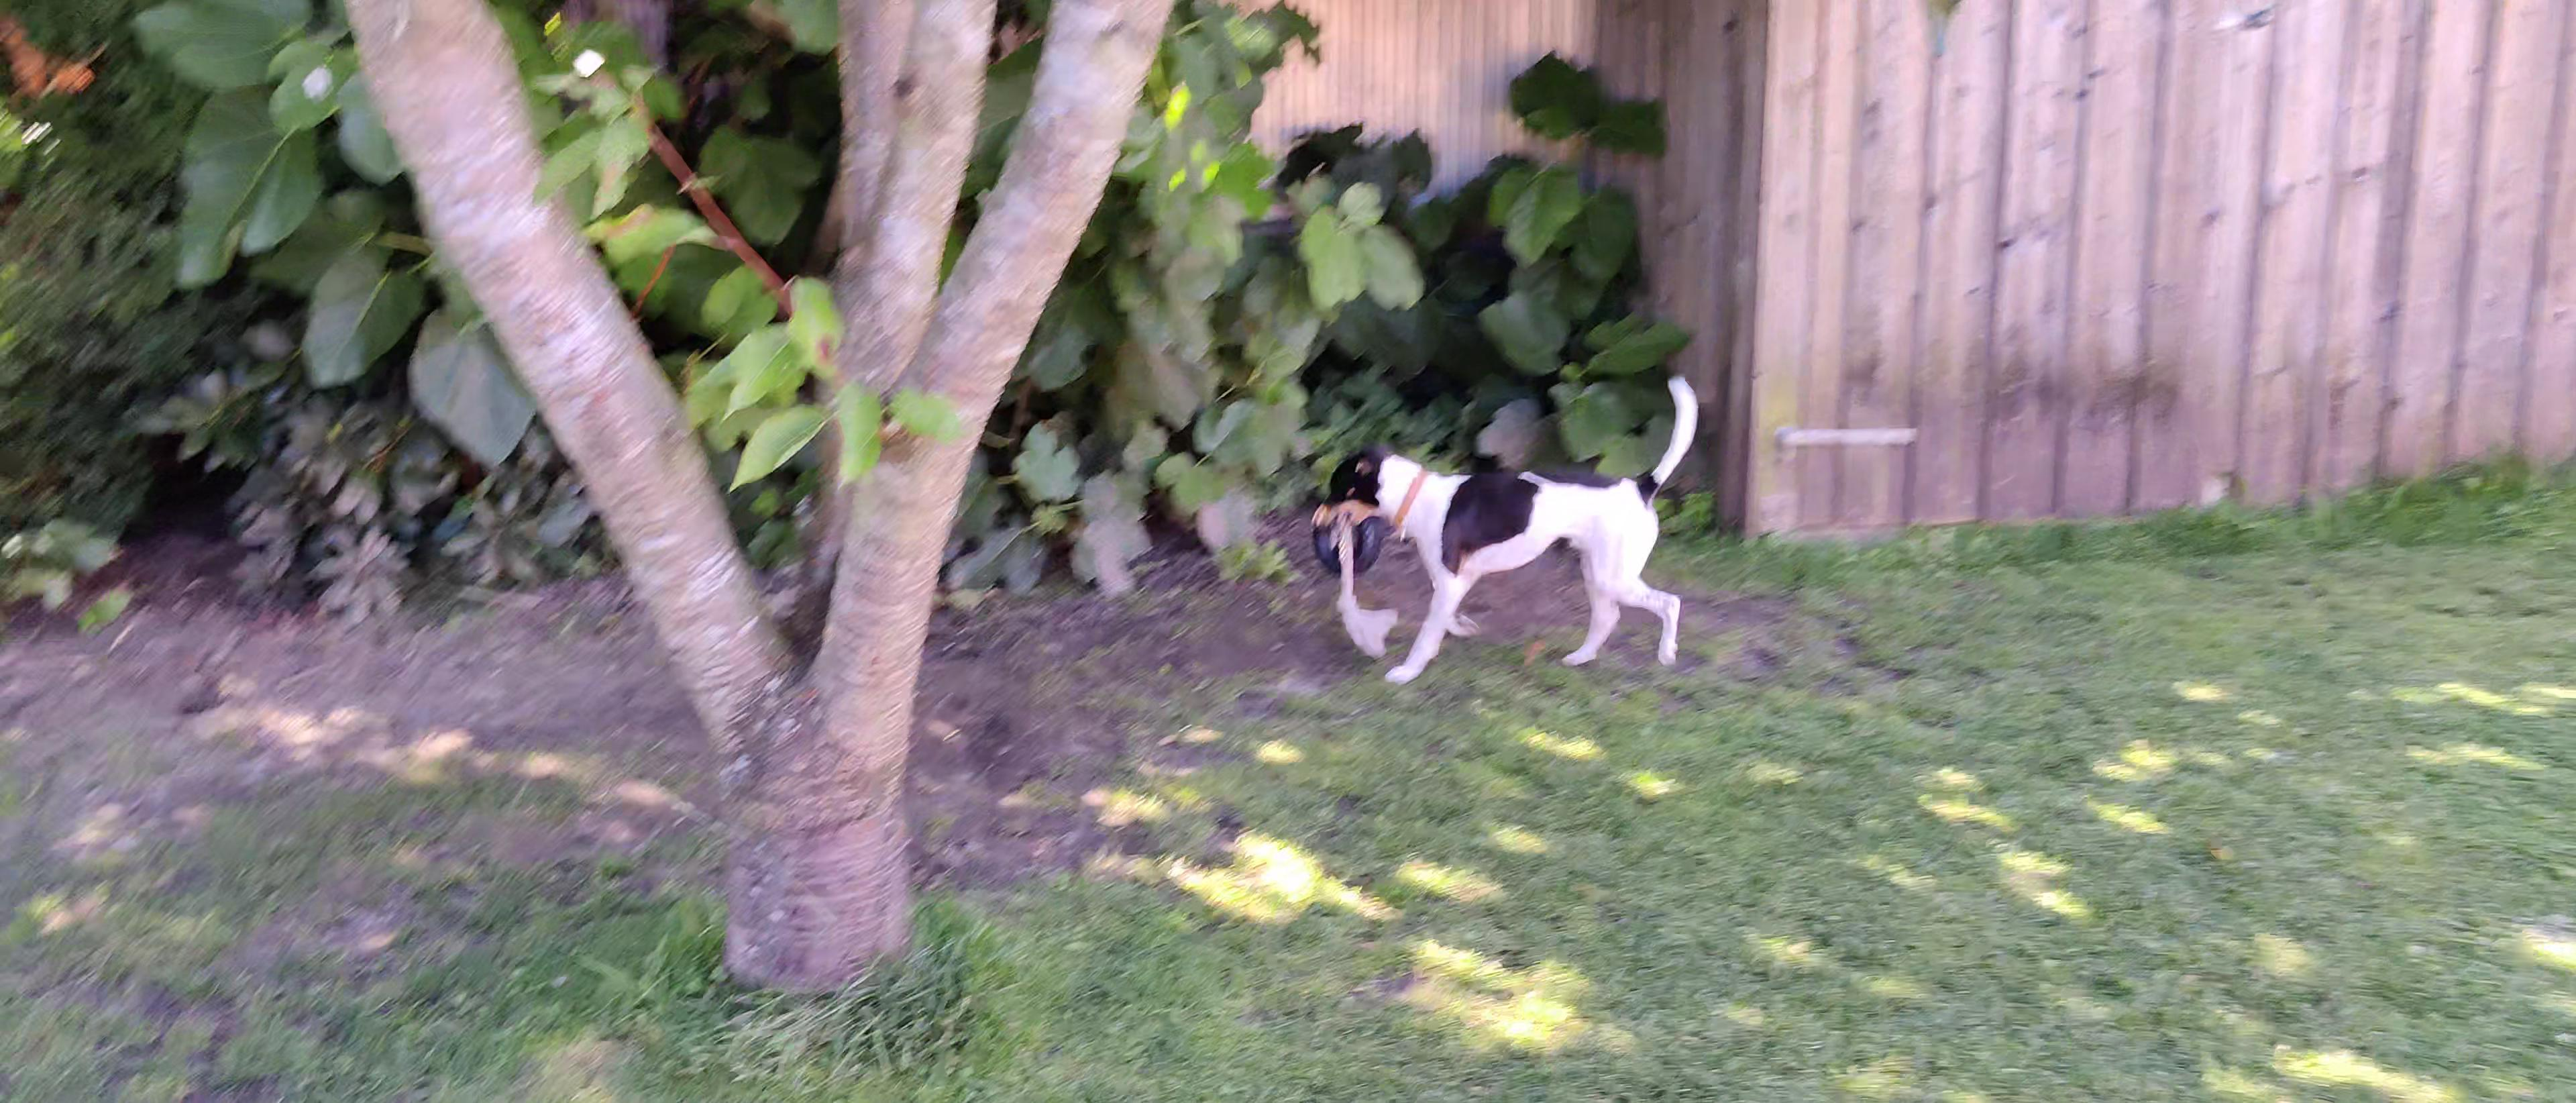Dog: (1304, 373, 1704, 684)
